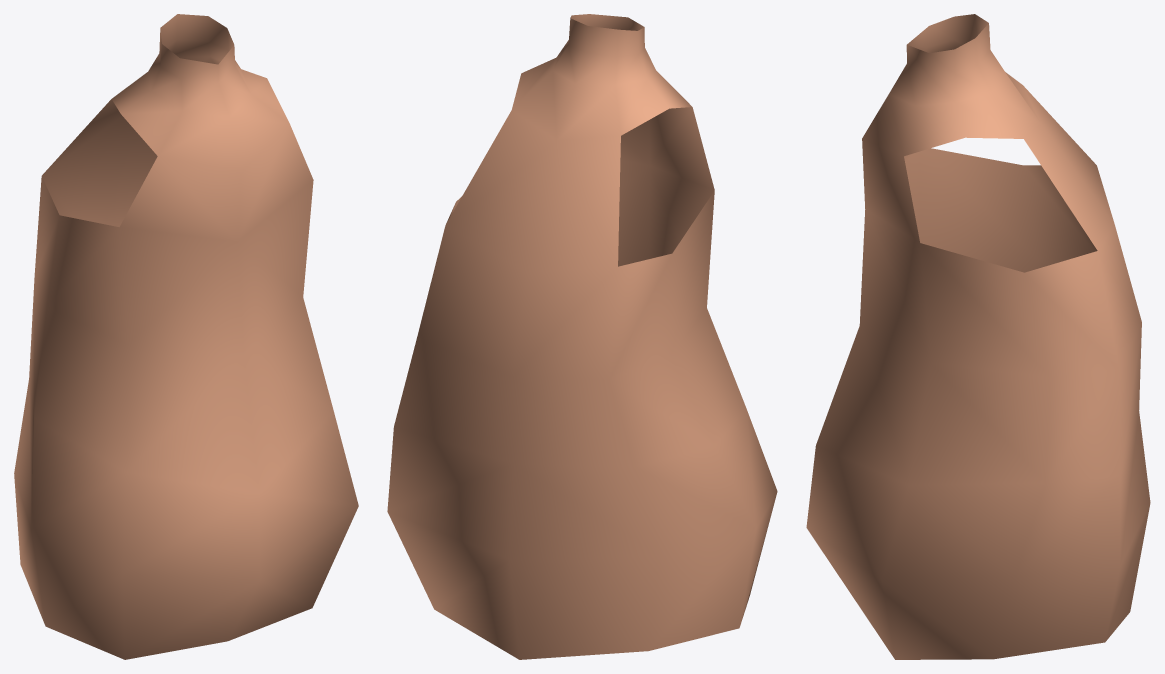
The model's file is body.glb.
The picture shows the model from 3 angles, left to right: view 1: azimuth 30°, elevation 25°; view 2: azimuth 150°, elevation 25°; view 3: azimuth 270°, elevation 25°; orthographic projection.
Parts seen in each view (by area): view 1: body; view 2: body; view 3: body.
Boxes of the visible parts, left/top/right/bottom form: body: left=14, top=14, right=358, bottom=659; body: left=387, top=14, right=777, bottom=659; body: left=806, top=14, right=1150, bottom=659.
Size of the model in its own units: 0.4157 by 0.776 by 0.4067.
